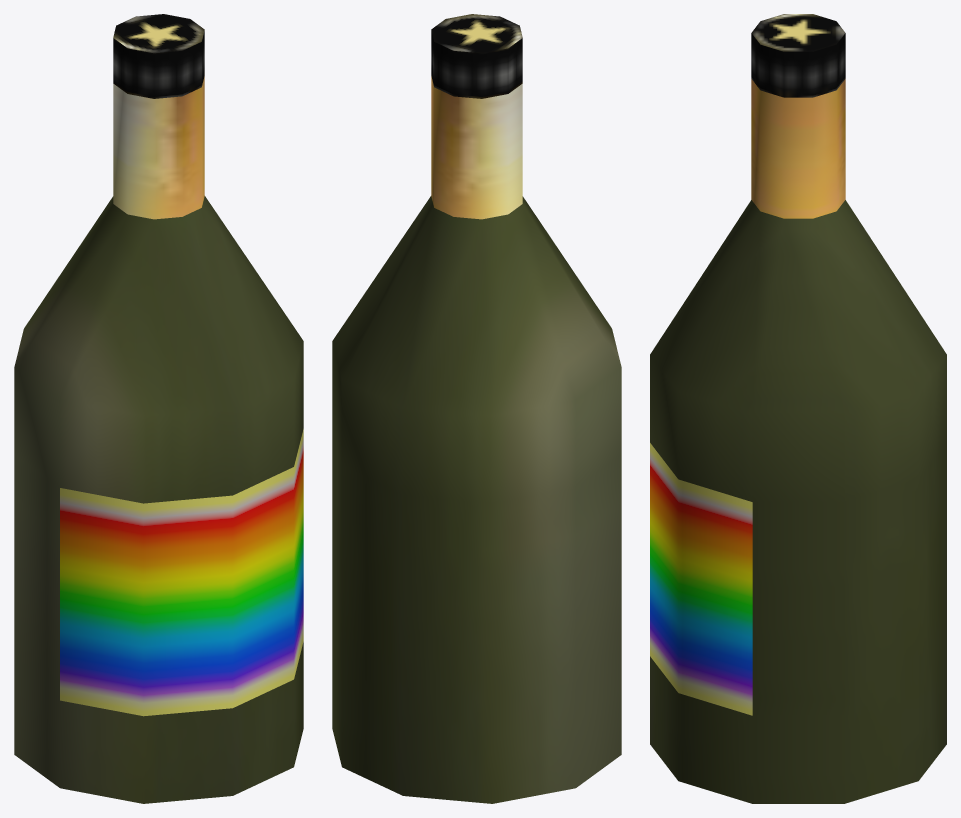
The model's file is giftgoods082f.fbx.
3 renders of one model, left to right at view 1: azimuth 30°, elevation 25°; view 2: azimuth 150°, elevation 25°; view 3: azimuth 270°, elevation 25°, orthographic.
Parts seen in each view (by area): view 1: giftgoods082f; view 2: giftgoods082f; view 3: giftgoods082f.
Part boxes in pixels (x1,y1,x2,y2): giftgoods082f: (14,14,303,803); giftgoods082f: (332,14,621,803); giftgoods082f: (650,14,946,803).
Size of the model in its own units: 0.1193 by 0.3317 by 0.1255.
